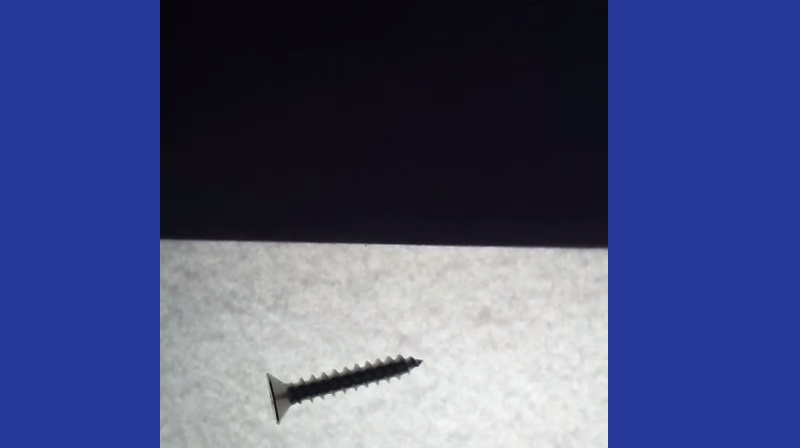S001: (260, 353, 424, 428)
